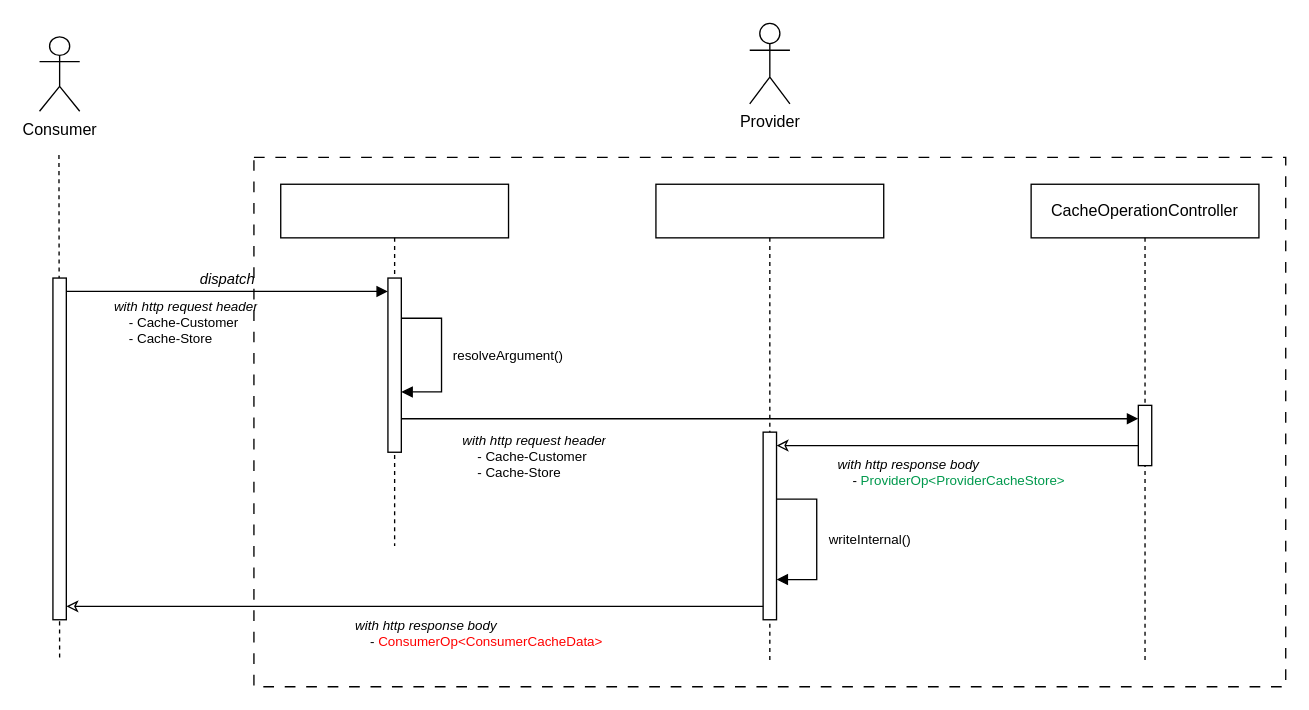
This 1309x710 diagram has some shape labels left out. The box of each missing label's shape, as (x1, y1, x2, y2) in pixels:
CacheOperationConverter: (655, 183, 884, 660)
ConsumerIdentifierResolver: (279, 183, 509, 546)
